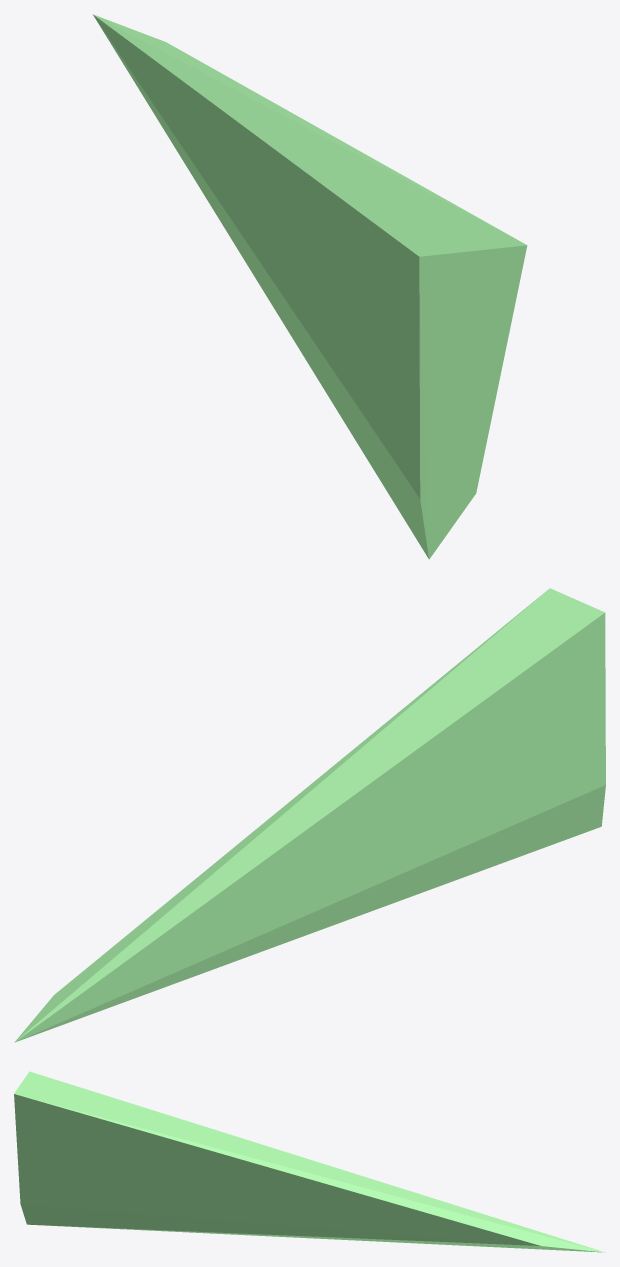
Rendered from spatula_robot_base_coll_1.dae.
3 views of the same model, one above another, from view 1: azimuth 30°, elevation 25°; view 2: azimuth 150°, elevation 25°; view 3: azimuth 270°, elevation 25° (orthographic). The views are drawn at different scales.
Visible parts, largest first — view 1: Node_0x7fe6917b6bb0; view 2: Node_0x7fe6917b6bb0; view 3: Node_0x7fe6917b6bb0.
Boxes of the visible parts, box(x1,y1,x2,y2) form: Node_0x7fe6917b6bb0: box(93, 14, 527, 559); Node_0x7fe6917b6bb0: box(14, 588, 605, 1042); Node_0x7fe6917b6bb0: box(14, 1071, 605, 1252).
Bounding box in the file's own units: 0.0106 × 0.0119 × 0.0421.
